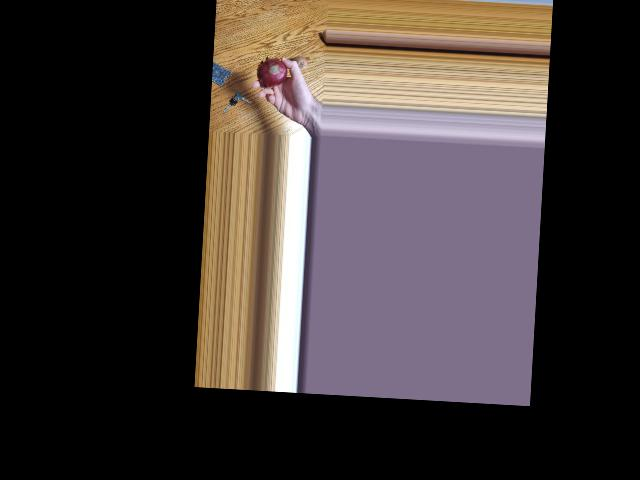onion: (293, 55, 312, 75)
